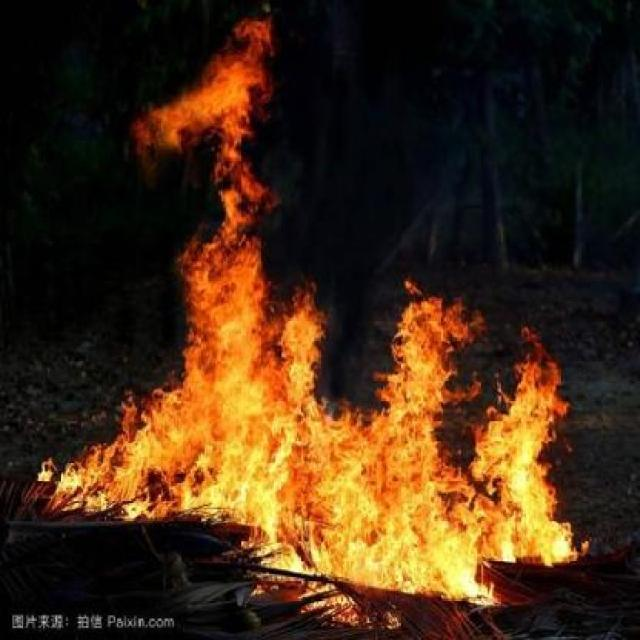Fire: (42, 9, 586, 626)
